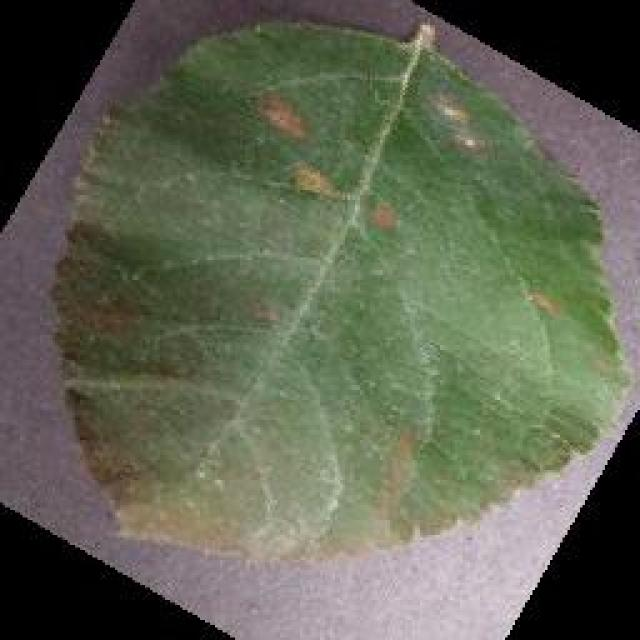apple rust disease: (45, 15, 633, 563)
